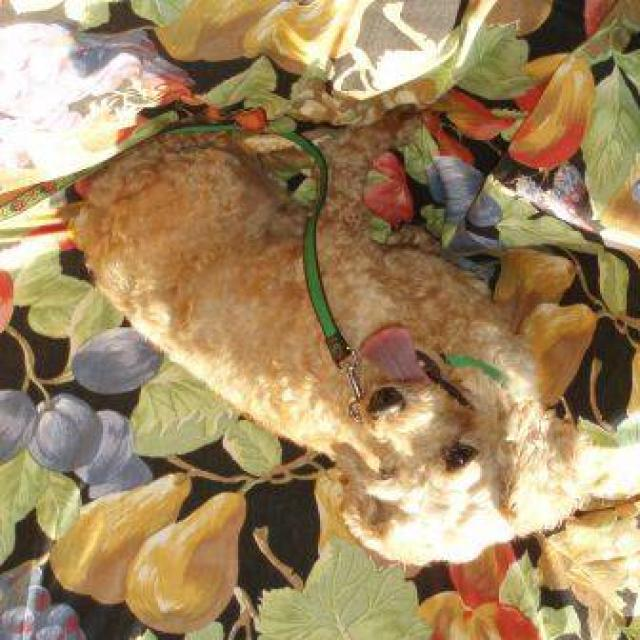dog: (45, 109, 578, 579)
